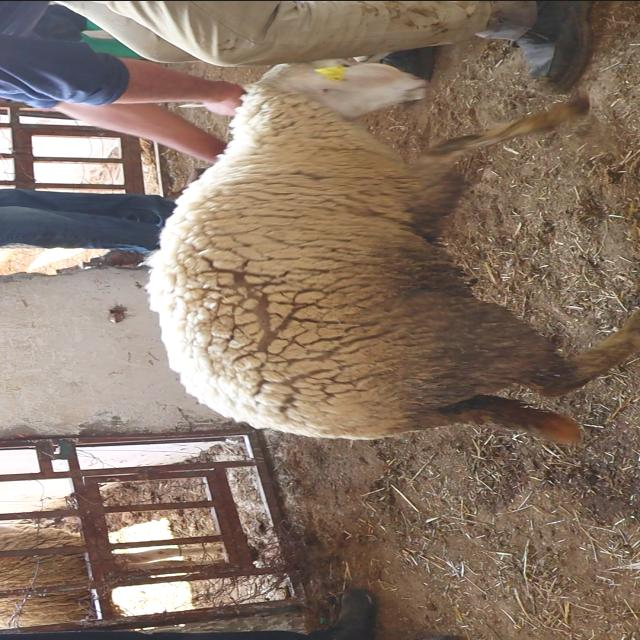Score_3: (146, 62, 639, 443)
